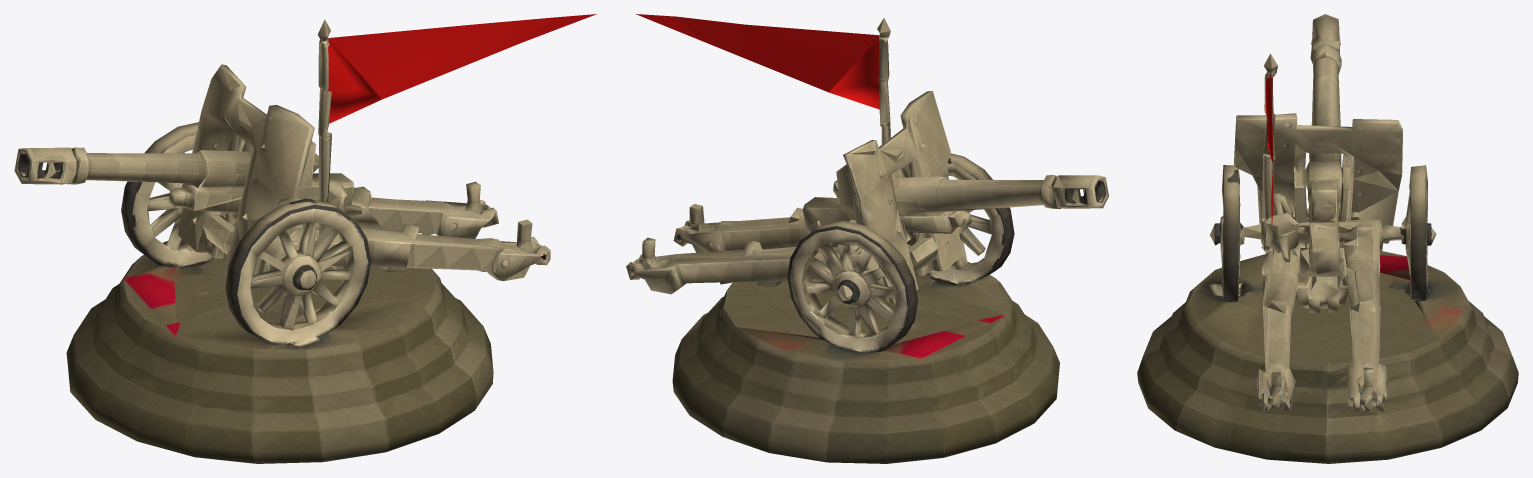
File: ottoman_bishop.glb
3 views of the same model, side by side, from view 1: azimuth 30°, elevation 25°; view 2: azimuth 150°, elevation 25°; view 3: azimuth 270°, elevation 25° (orthographic). The views are drawn at different scales.
Size of the model in its own units: 2 by 1.32 by 1.36.
1 material, 1 textured.
